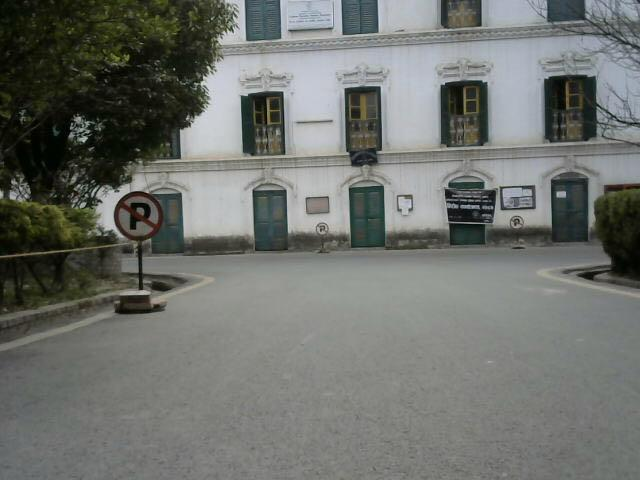Building: (203, 0, 591, 269)
Road: (9, 255, 640, 480)
Traffic sign: (109, 183, 180, 324), (509, 211, 536, 264), (314, 221, 335, 261)
Tree: (2, 3, 212, 171)
